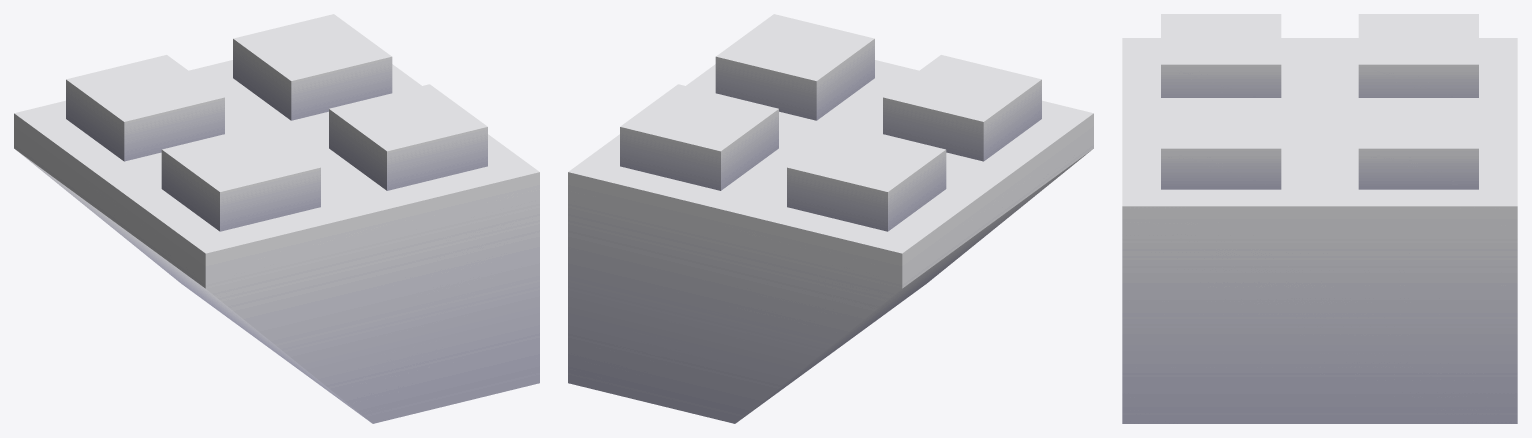
The model's file is square-lq-brick-slope-inverted-2x2.glb.
3 renders of one model, left to right at view 1: azimuth 30°, elevation 25°; view 2: azimuth 150°, elevation 25°; view 3: azimuth 270°, elevation 25°, orthographic. The views are drawn at different scales.
Parts seen in each view (by area): view 1: square-lq-brick-slope-inverted-2x2; view 2: square-lq-brick-slope-inverted-2x2; view 3: square-lq-brick-slope-inverted-2x2.
Part boxes in pixels (bbox=[...]): square-lq-brick-slope-inverted-2x2: bbox=[14, 14, 539, 423]; square-lq-brick-slope-inverted-2x2: bbox=[568, 14, 1093, 423]; square-lq-brick-slope-inverted-2x2: bbox=[1122, 14, 1517, 423].
Size of the model in its own units: 0.159 by 0.114 by 0.158.
Materials: 1 (1 with a texture image).
